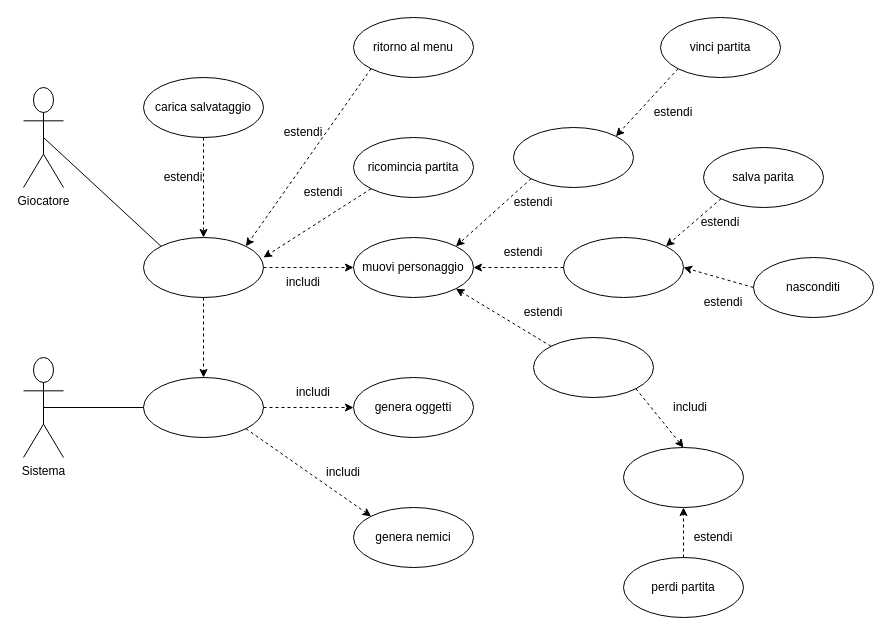
Image size: 891x635. Some labels were removed from this diagram. Here are the shapes that lost their labels. From the top down, the centre of each, then its label:
the point at 573,157: attacca
the point at 203,267: inizia partita
the point at 623,267: interagisci
the point at 593,367: colpito da nemico
the point at 203,407: carica stanze
the point at 683,477: perdi vita
